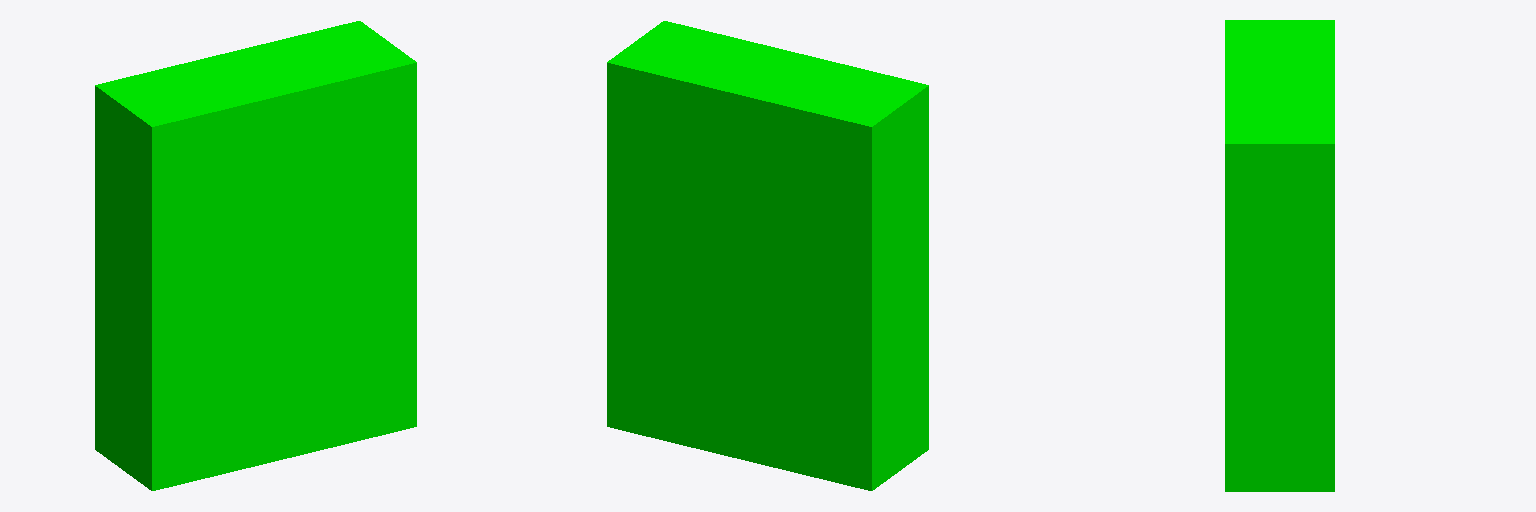
robot.urdf — cheezit:
<robot name="cheezit">
  <link name="cheezit">
    <collision>
      <origin xyz="0 0 0.105" />
      <geometry>
        <box size="0.16 0.06 0.21" />
      </geometry>
    </collision>
    <visual>
      <origin xyz="0 0 0.105" />
      <material name="c">
        <color rgba="0 1.0 0 1.0" />
      </material>
      <geometry>
        <box size="0.16 0.06 0.21" />
      </geometry>
    </visual>
  </link>
</robot>

--- Facts derived from the render (not from the file) ---
3 views of the same robot in one strip: view 1: azimuth 30°, elevation 25°; view 2: azimuth 150°, elevation 25°; view 3: azimuth 270°, elevation 25° (orthographic).
Robot: cheezit — 1 links, 0 joints (none); root link cheezit; default pose: all joints at 0.
Visible links, largest first — view 1: cheezit; view 2: cheezit; view 3: cheezit.
Boxes of the visible links, left/top/right/bottom form: cheezit: left=95, top=21, right=416, bottom=490; cheezit: left=607, top=21, right=928, bottom=490; cheezit: left=1225, top=20, right=1334, bottom=491.
Size in the robot's own frame: 0.16 by 0.06 by 0.21 metres.
Geometry: primitives only (box / cylinder / sphere), no mesh files.